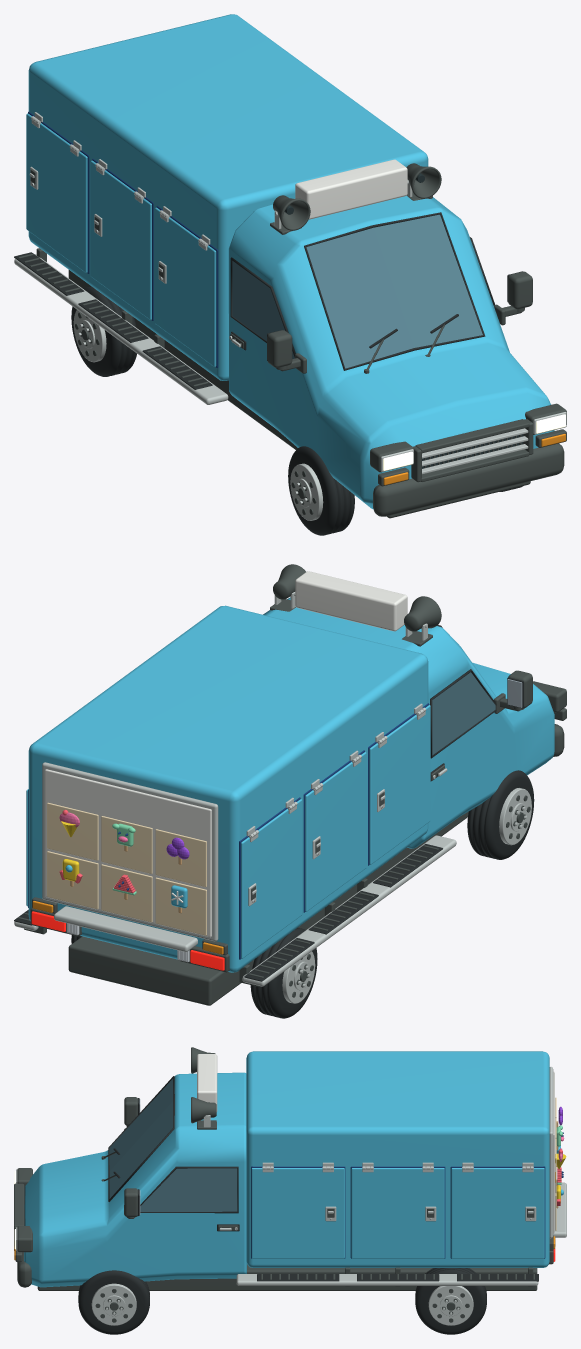
The model's file is ice_cream_van.glb.
3 renders of one model, top to bottom at view 1: azimuth 30°, elevation 25°; view 2: azimuth 150°, elevation 25°; view 3: azimuth 270°, elevation 25°, orthographic. The views are drawn at different scales.
Parts seen in each view (by area): view 1: Freezer body, Pressed steel bonnet and cab, Swept windscreen.001, Swept windscreen, Freezer hatch, Freezer hatch.001, Freezer hatch.002, Front bumper, Roof lightbox, Däck, Cab door window, Continuous side step (+17 smaller); view 2: Freezer body, Pressed steel bonnet and cab, Illustrated menu, Chassis, Freezer hatch.001, Freezer hatch.002, Freezer hatch, Roof lightbox, Rear menu surround, Cab door window, Däck, Folding sales shelf (+16 smaller); view 3: Freezer body, Pressed steel bonnet and cab, Freezer hatch.004, Freezer hatch.005, Freezer hatch.003, Chassis, Cab door window.001, Däck.002, Continuous side step.001, Däck.003, Swept windscreen, Swept windscreen.001 (+17 smaller).
Boxes of the visible parts, x1,y1,x2,y2 form: Freezer body: (28,14,428,380); Pressed steel bonnet and cab: (228,195,554,509); Swept windscreen.001: (306,228,413,368); Swept windscreen: (373,214,482,347); Freezer hatch: (155,207,216,366); Freezer hatch.001: (90,160,151,319); Freezer hatch.002: (26,113,87,272); Front bumper: (373,443,564,516); Roof lightbox: (295,159,407,219); Däck: (288,446,354,535); Cab door window: (232,261,294,358); Continuous side step: (14,254,228,404); Freezer body: (28,605,428,972); Pressed steel bonnet and cab: (263,597,554,848); Illustrated menu: (45,769,211,937); Chassis: (68,811,468,1005); Freezer hatch.001: (305,752,366,911); Freezer hatch.002: (241,799,302,958); Freezer hatch: (369,705,430,864); Roof lightbox: (295,571,407,631); Rear menu surround: (42,762,218,941); Cab door window: (432,672,495,755); Däck: (467,770,534,859); Folding sales shelf: (54,906,197,951); Freezer body: (246,1051,549,1267); Pressed steel bonnet and cab: (24,1072,246,1287); Freezer hatch.004: (351,1168,444,1258); Freezer hatch.005: (451,1168,544,1258); Freezer hatch.003: (251,1168,344,1258); Chassis: (37,1264,537,1290); Cab door window.001: (140,1168,237,1211); Däck.002: (78,1270,149,1334); Continuous side step.001: (236,1274,538,1285); Däck.003: (415,1268,486,1334); Swept windscreen: (109,1101,172,1198); Swept windscreen.001: (109,1079,172,1170).
Size of the model in its own units: 2.63 by 2.81 by 6.25.
